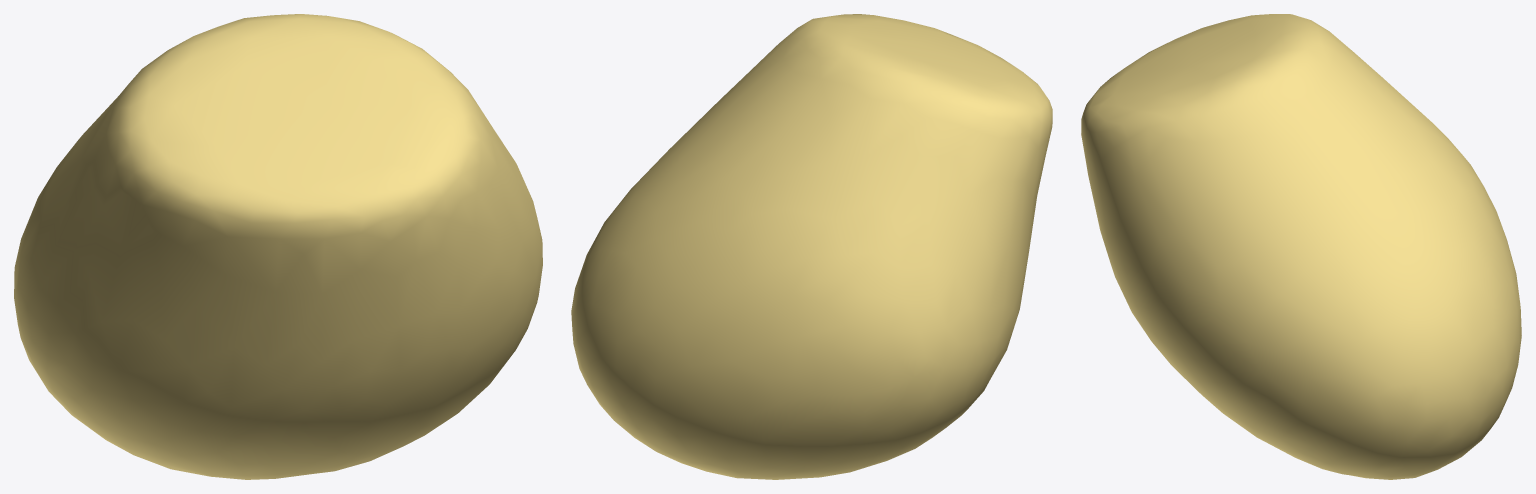
The model's file is fma73683_mm3242m.glb.
The picture shows the model from 3 angles, left to right: view 1: azimuth 30°, elevation 25°; view 2: azimuth 150°, elevation 25°; view 3: azimuth 270°, elevation 25°; orthographic projection. The views are drawn at different scales.
Visible parts, largest first — view 1: FMA73683_MM3242M; view 2: FMA73683_MM3242M; view 3: FMA73683_MM3242M.
Part boxes in pixels (<box>): FMA73683_MM3242M: <box>14,14,542,479</box>; FMA73683_MM3242M: <box>571,14,1052,479</box>; FMA73683_MM3242M: <box>1081,14,1521,479</box>.
Size of the model in its own units: 0.00402 by 0.00386 by 0.00401.
